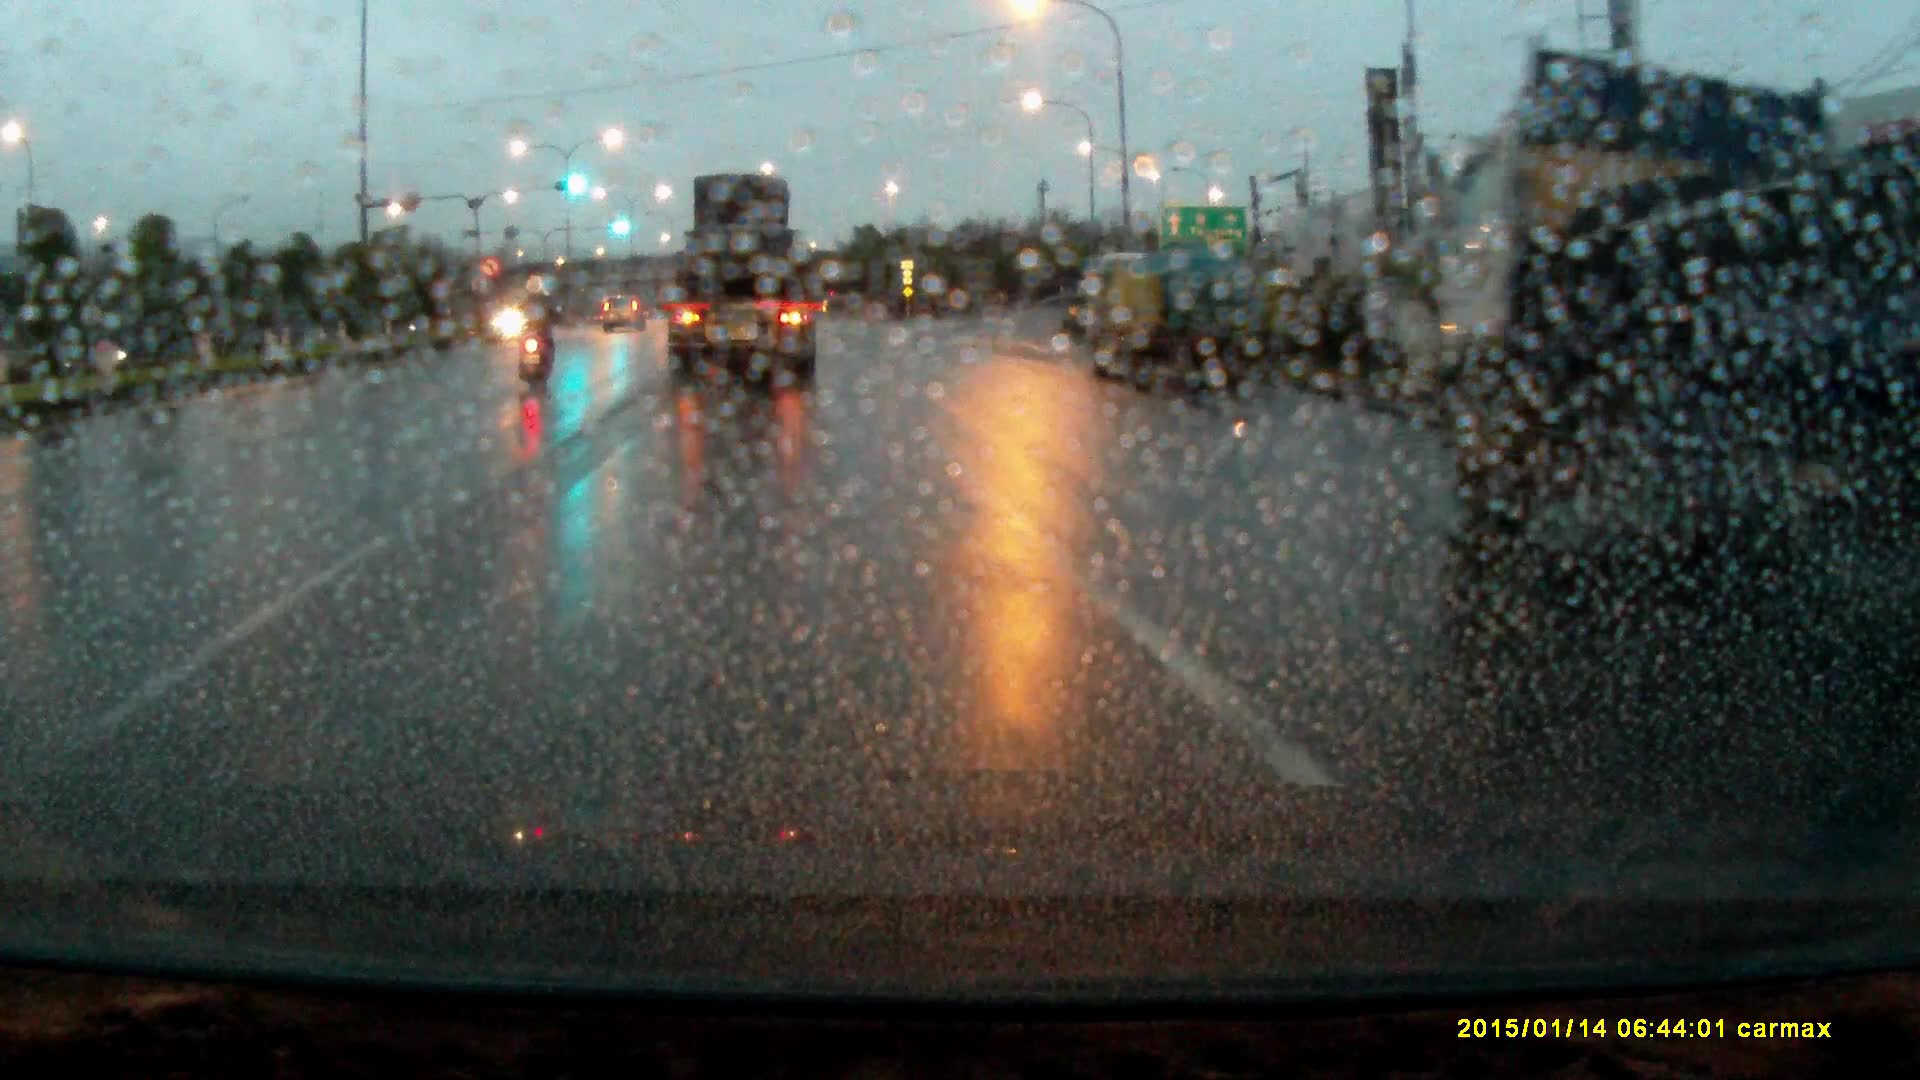rider: (514, 272, 568, 380)
vehicle: (1443, 45, 1920, 545), (662, 169, 822, 394), (1073, 253, 1270, 394), (602, 294, 647, 335)
